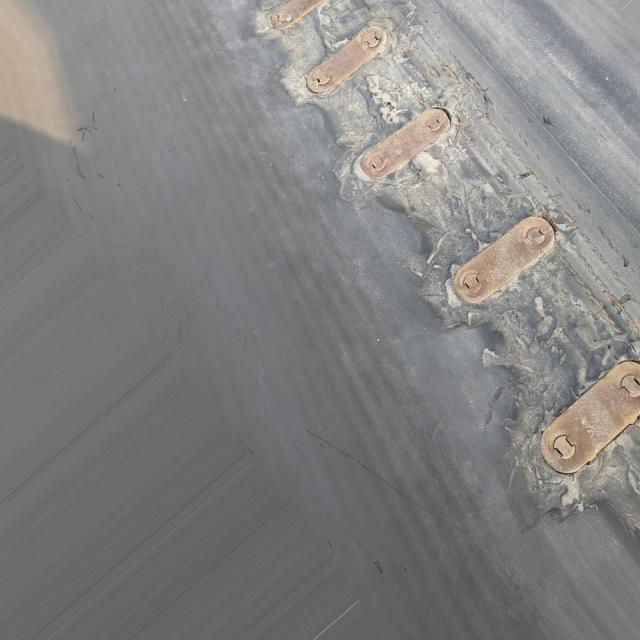patch work: (256, 0, 640, 526)
